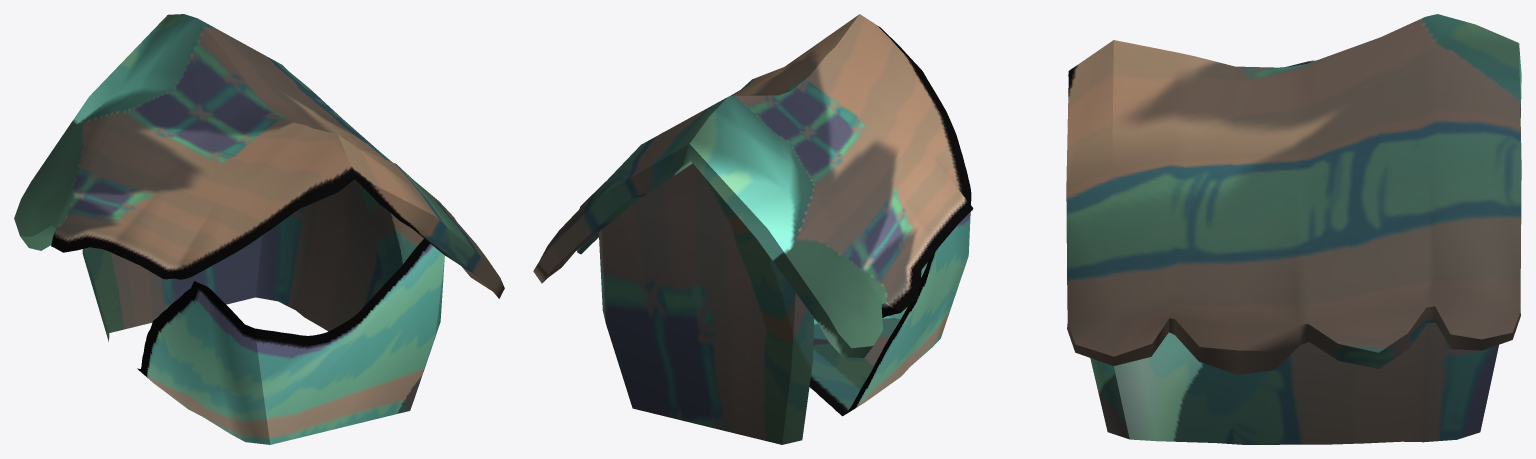
Rendered from Beach Hut.fbx.
3 renders of one model, left to right at view 1: azimuth 30°, elevation 25°; view 2: azimuth 150°, elevation 25°; view 3: azimuth 270°, elevation 25°, orthographic. The views are drawn at different scales.
Parts seen in each view (by area): view 1: beach_hut; view 2: beach_hut; view 3: beach_hut.
Part boxes in pixels (<box>): beach_hut: <box>14,14,504,444</box>; beach_hut: <box>533,14,973,444</box>; beach_hut: <box>1066,14,1521,444</box>.
Size of the model in its own units: 244 by 207 by 229.
